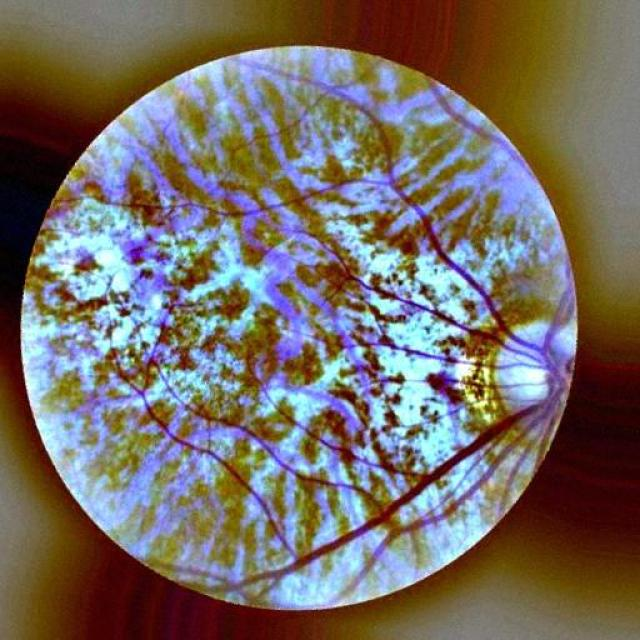Nerves: (283, 102, 543, 351), (277, 415, 512, 574), (354, 282, 515, 354)
Optic Disk: (492, 327, 577, 444)
